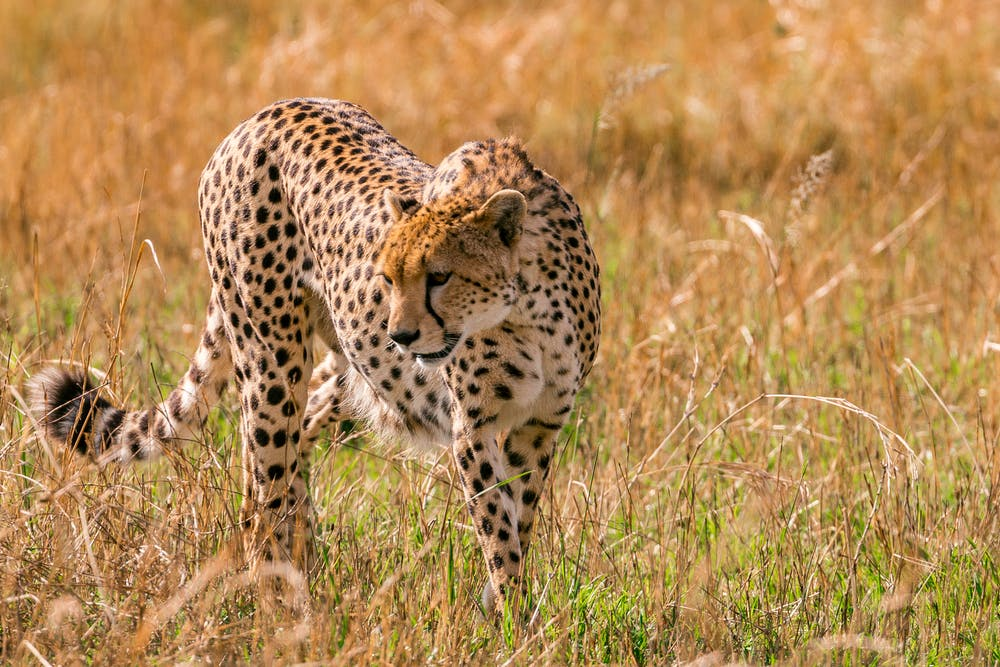cheetah: (348, 178, 539, 372)
